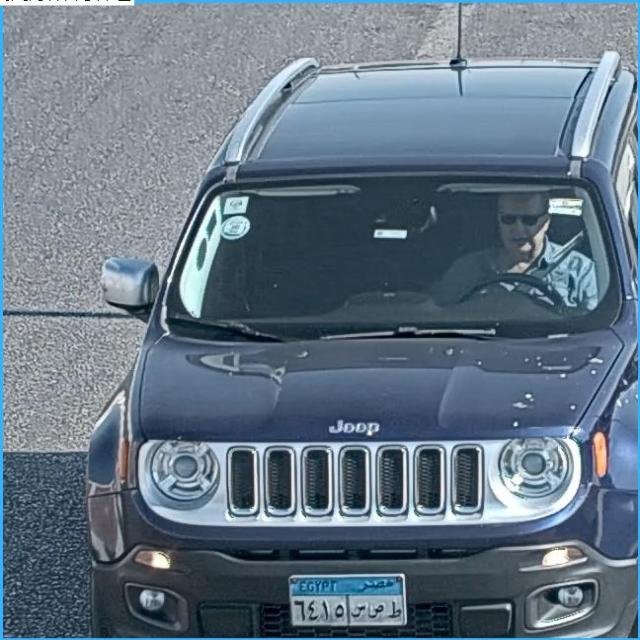Seat_belt: (426, 179, 594, 324)
